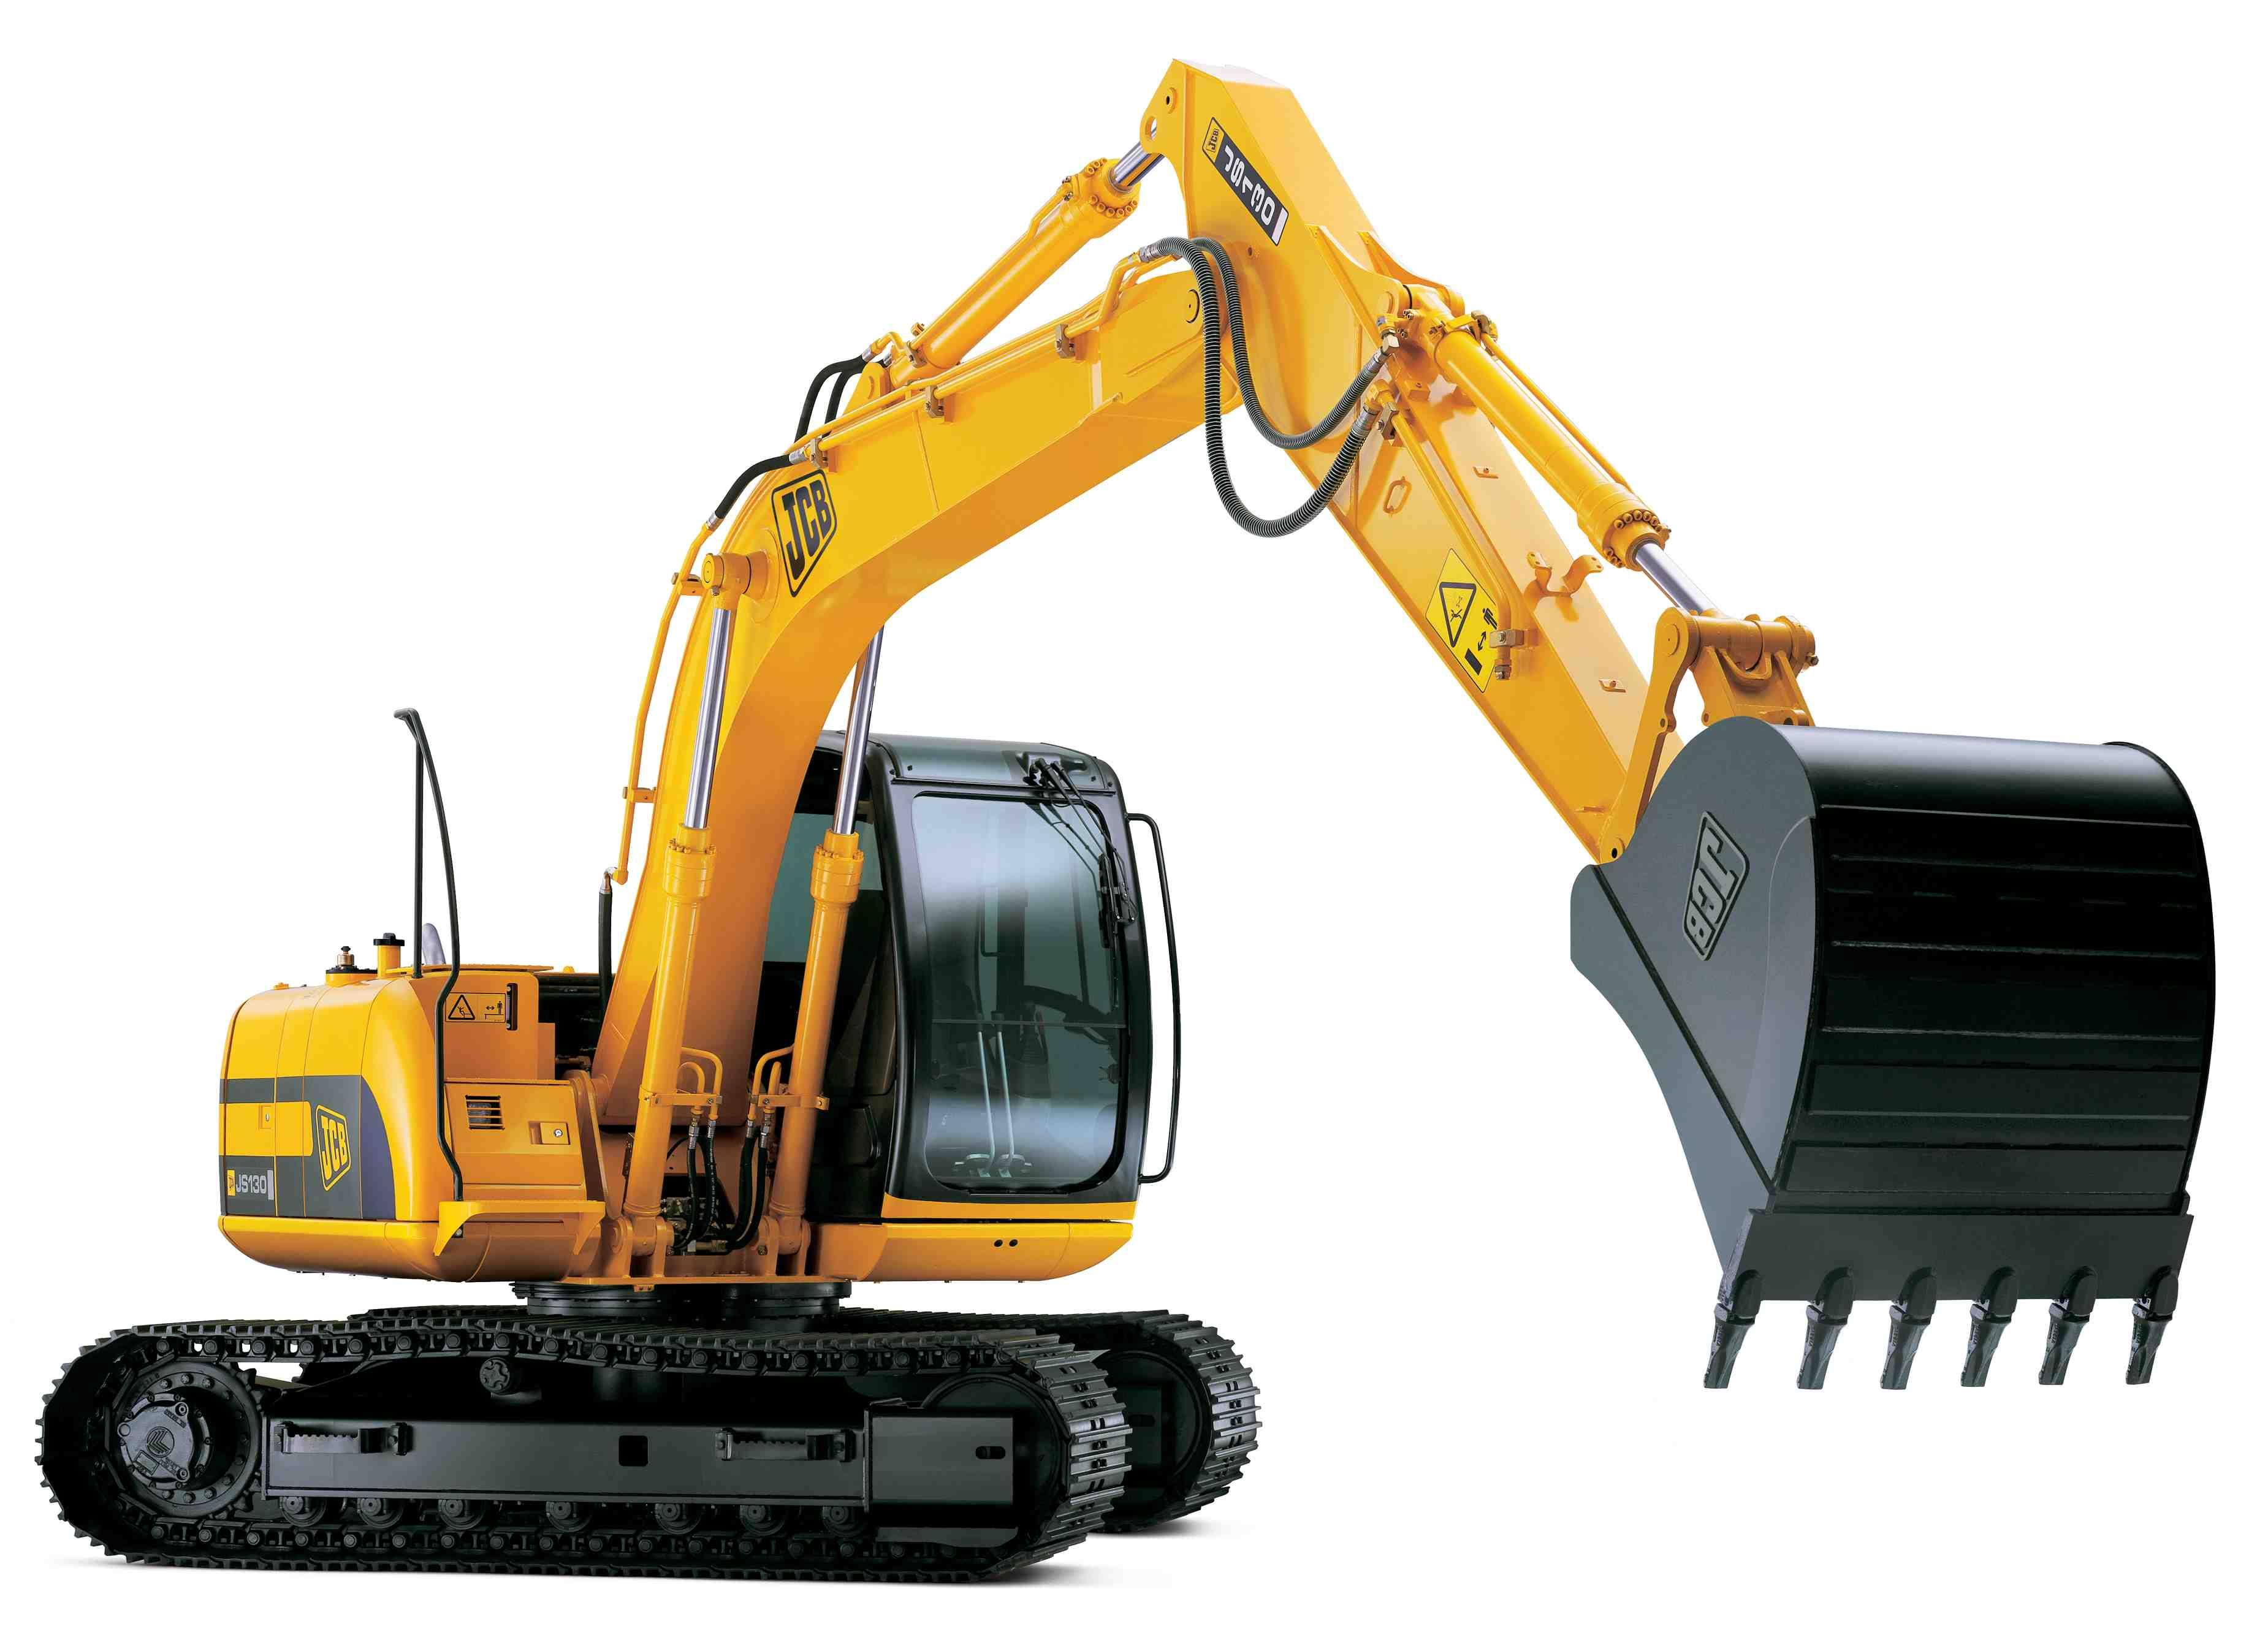backhoe: (44, 48, 2259, 1586)
